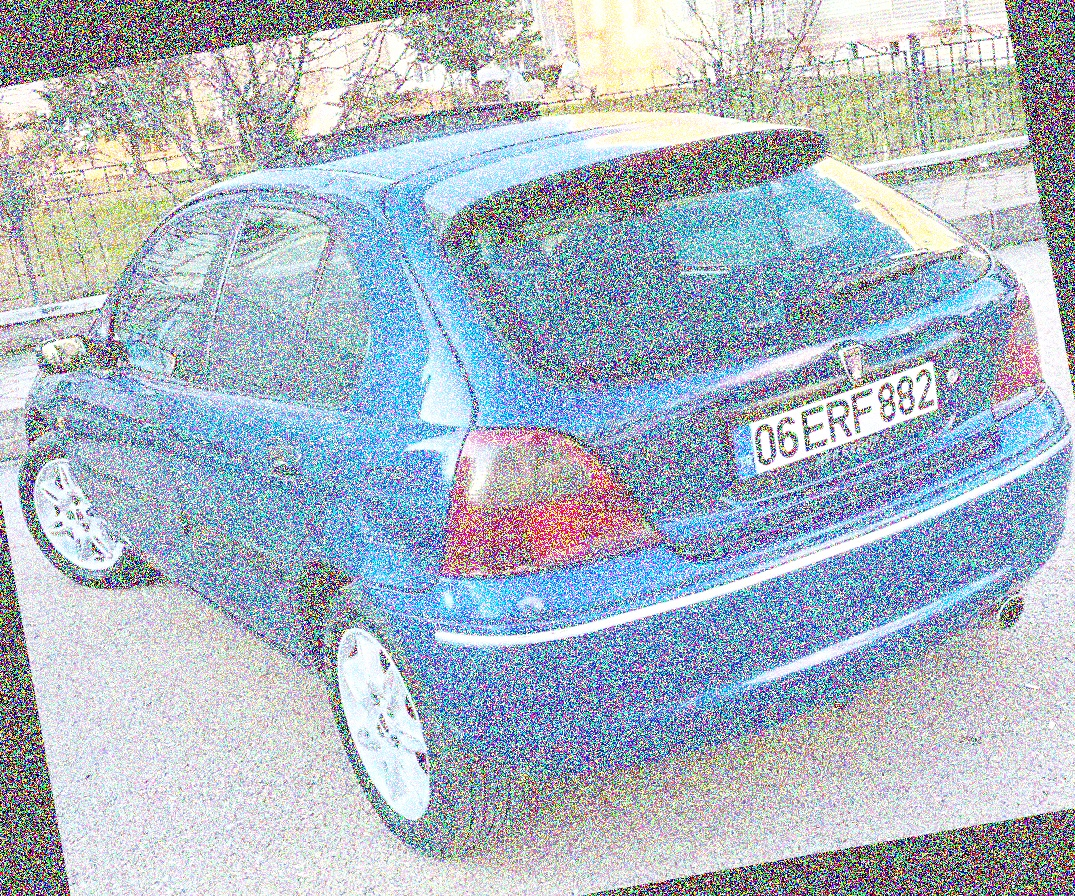plaka: (749, 360, 943, 466)
